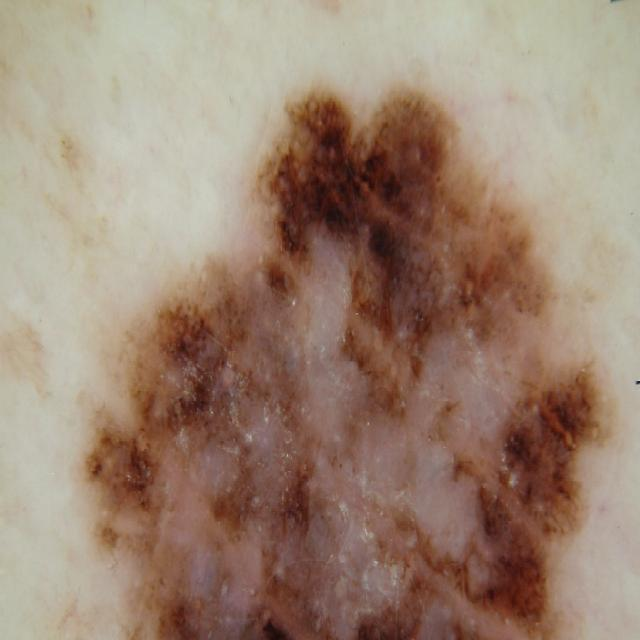Melanoma: (76, 79, 624, 640)
